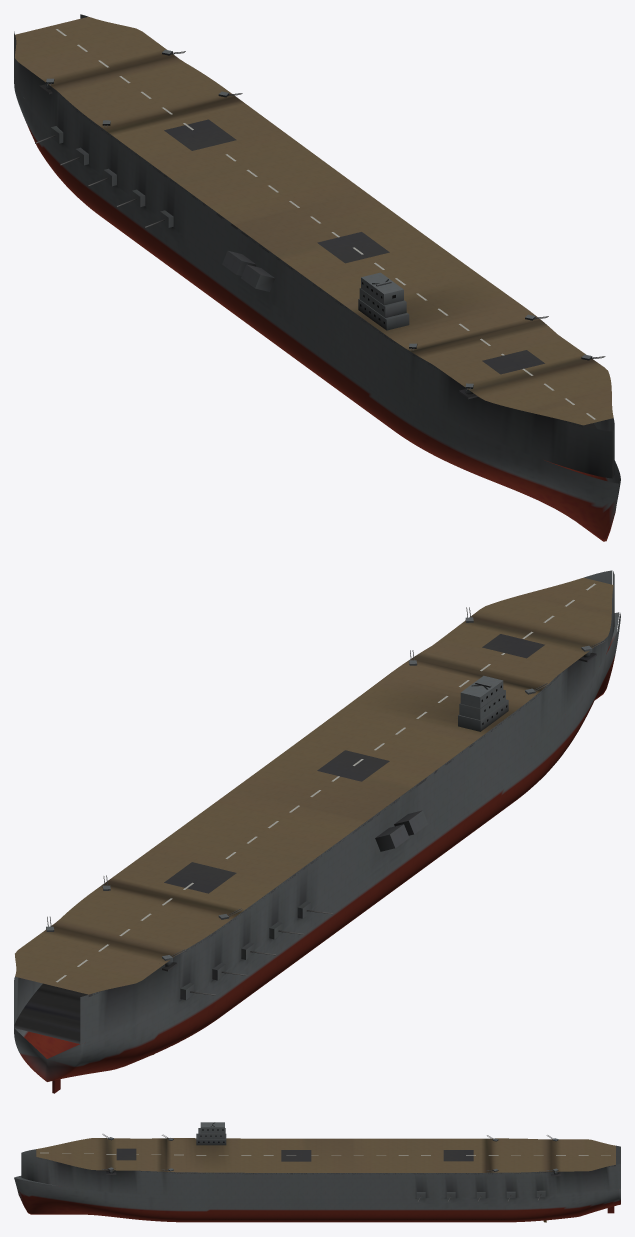
Rendered from model_built.glb.
3 views of the same model, one above another, from view 1: azimuth 30°, elevation 25°; view 2: azimuth 150°, elevation 25°; view 3: azimuth 270°, elevation 25° (orthographic). The views are drawn at different scales.
Parts seen in each view (by area): view 1: main; view 2: main; view 3: main.
Boxes of the visible parts, bbox=[...] form: main: bbox=[14, 14, 620, 541]; main: bbox=[14, 570, 620, 1093]; main: bbox=[14, 1122, 620, 1222].
Size of the model in its own units: 46.07 by 34.29 by 243.
Materials: 1 (1 with a texture image).
